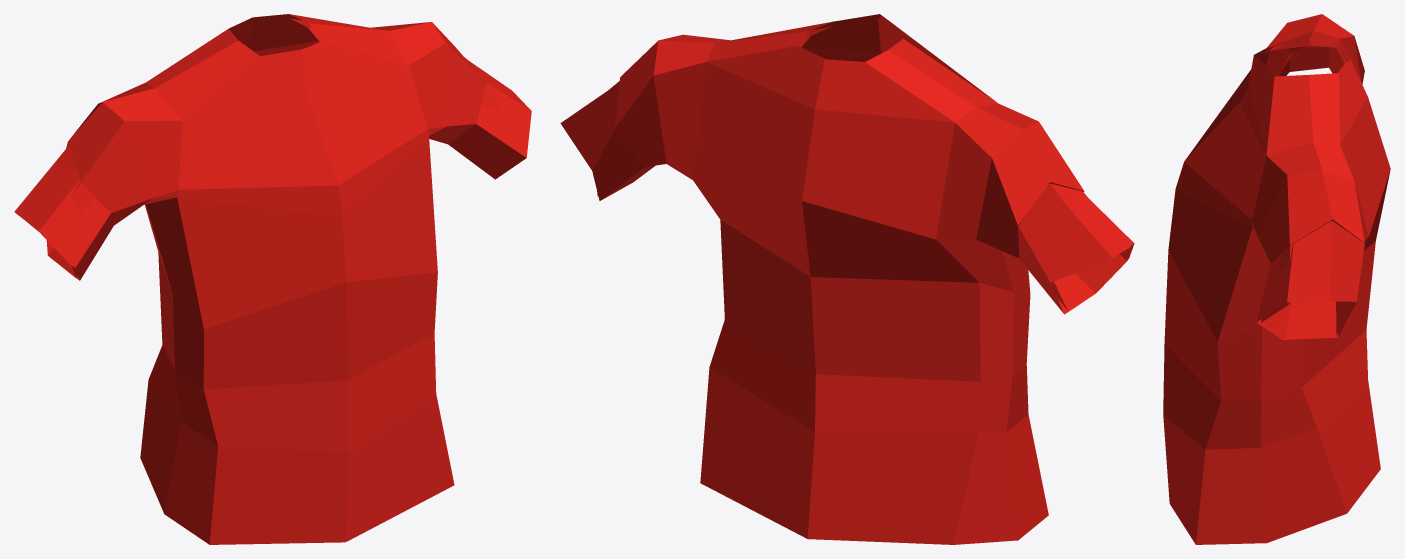
The model's file is deadGuy1FixedShirt.fbx.
3 renders of one model, left to right at view 1: azimuth 30°, elevation 25°; view 2: azimuth 150°, elevation 25°; view 3: azimuth 270°, elevation 25°, orthographic. The views are drawn at different scales.
Parts seen in each view (by area): view 1: Cube.001; view 2: Cube.001; view 3: Cube.001.
Boxes of the visible parts, left/top/right/bottom form: Cube.001: left=14, top=14, right=531, bottom=544; Cube.001: left=560, top=14, right=1134, bottom=544; Cube.001: left=1163, top=14, right=1390, bottom=544.
Bounding box in the file's own units: 187 × 165 × 75.91.
